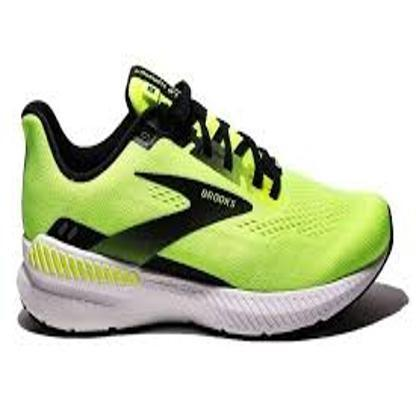not trash: (19, 62, 394, 341)
